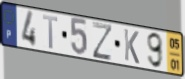4: (20, 10, 38, 50)
5: (69, 17, 89, 58)
9: (145, 32, 165, 70)
K: (123, 27, 141, 66)
T: (42, 14, 59, 51)
Z: (91, 20, 114, 62)
